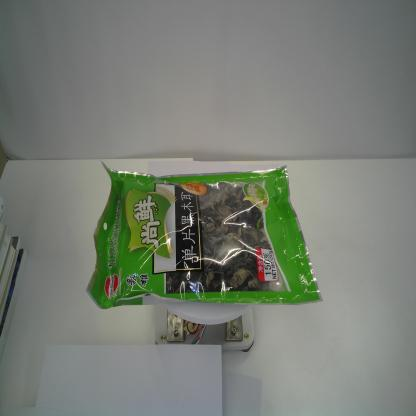Dried Food: (83, 157, 326, 309)
